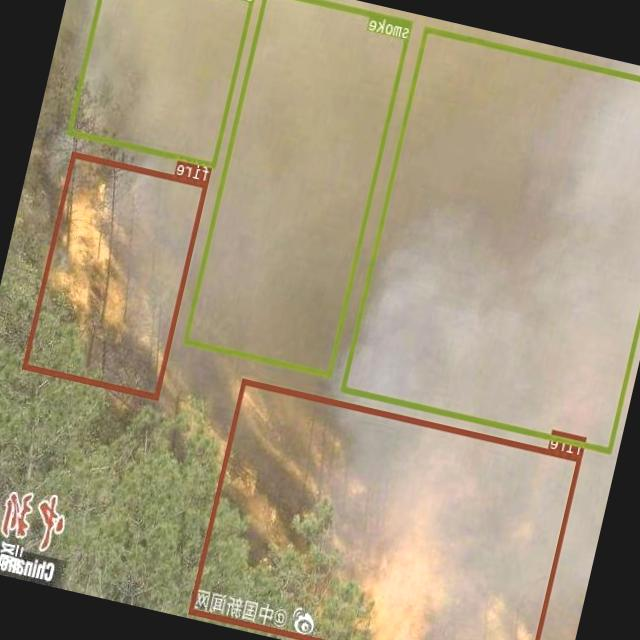fire: (189, 378, 582, 640), (23, 151, 208, 399)
smoke: (341, 25, 640, 452), (184, 0, 413, 377), (67, 0, 258, 167)
